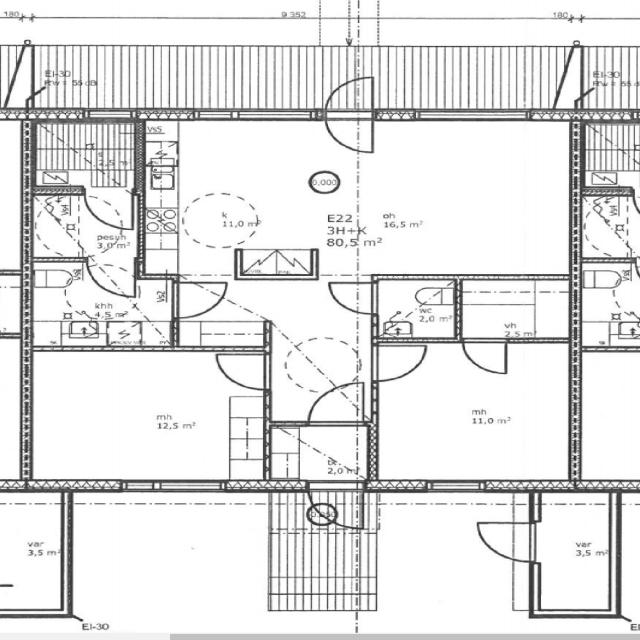door: (266, 400, 373, 483), (316, 75, 379, 157), (166, 276, 232, 324), (470, 519, 538, 563), (208, 348, 274, 393), (304, 384, 365, 427), (369, 340, 428, 384), (82, 184, 136, 232), (322, 279, 382, 317), (459, 336, 510, 377), (88, 258, 139, 296)
window: (178, 103, 320, 127), (408, 106, 529, 123), (425, 478, 487, 496)
zone: (25, 350, 272, 488), (63, 489, 288, 635), (372, 342, 574, 487), (145, 118, 341, 248), (28, 268, 176, 352), (531, 489, 616, 619), (0, 490, 67, 612), (31, 118, 140, 190), (454, 276, 573, 341), (263, 422, 373, 482), (576, 260, 640, 350), (374, 278, 459, 342), (576, 192, 639, 262), (580, 120, 640, 191), (27, 190, 83, 262), (80, 185, 136, 238), (0, 271, 26, 338)
